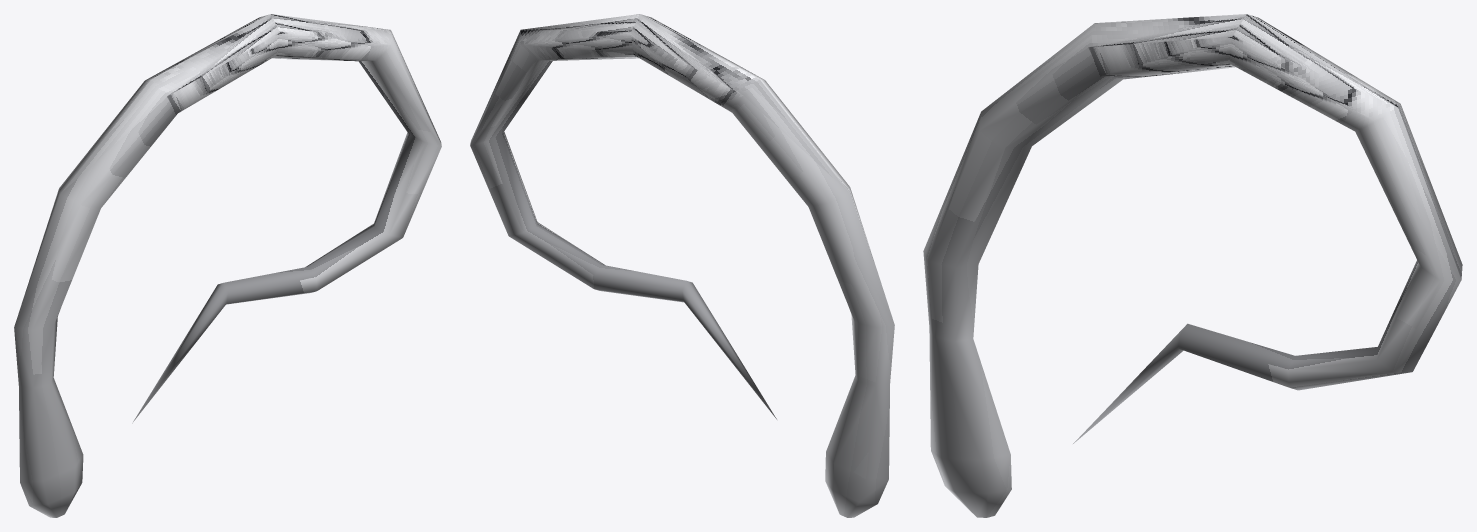
Rendered from snake_000015.obj.
The picture shows the model from 3 angles, left to right: view 1: azimuth 30°, elevation 25°; view 2: azimuth 150°, elevation 25°; view 3: azimuth 330°, elevation 25°; orthographic projection. The views are drawn at different scales.
Visible parts, largest first — view 1: Cylinder; view 2: Cylinder; view 3: Cylinder.
Part boxes in pixels (x1,y1,x2,y2): Cylinder: (14, 14, 441, 517); Cylinder: (470, 14, 894, 517); Cylinder: (923, 14, 1462, 517).
Bounding box in the file's own units: 4.13 × 4.19 × 0.3671.
